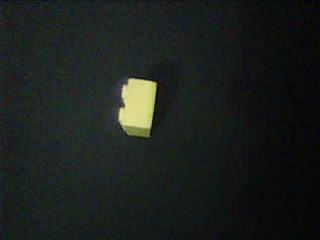lego: (117, 74, 158, 139)
